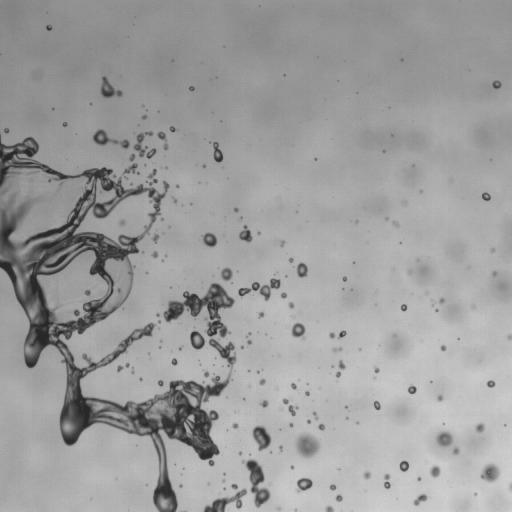droplet: (294, 431, 320, 458), (252, 425, 272, 451), (100, 76, 123, 98), (480, 462, 500, 482), (285, 322, 306, 340), (435, 430, 453, 446), (295, 477, 313, 493), (238, 224, 252, 243), (292, 262, 308, 278), (201, 232, 217, 247), (219, 267, 233, 284), (429, 464, 441, 478), (2, 135, 13, 146), (142, 136, 153, 147), (144, 158, 155, 169), (154, 241, 165, 252), (283, 244, 294, 255), (225, 285, 236, 296), (19, 321, 30, 332), (43, 343, 54, 354), (74, 357, 85, 368), (56, 364, 67, 375), (282, 387, 293, 398), (207, 395, 218, 406), (268, 396, 279, 407), (200, 400, 211, 411), (308, 426, 319, 437), (80, 427, 91, 438), (208, 428, 219, 439), (141, 434, 152, 445), (163, 436, 174, 447), (286, 441, 297, 452), (311, 451, 322, 462), (292, 452, 303, 463), (255, 455, 266, 466), (493, 457, 504, 468), (495, 460, 506, 471), (495, 474, 506, 485), (240, 478, 251, 489), (243, 492, 254, 503), (399, 460, 409, 472), (151, 229, 159, 243), (475, 422, 485, 433), (274, 238, 286, 247), (407, 384, 416, 394), (332, 346, 343, 354), (492, 80, 501, 89), (481, 192, 490, 201), (337, 330, 346, 339), (157, 379, 166, 388), (134, 155, 143, 164), (154, 183, 163, 192), (219, 279, 228, 288), (94, 319, 103, 328), (332, 336, 341, 345), (218, 337, 227, 346), (108, 342, 117, 351), (334, 351, 343, 360), (296, 382, 305, 391), (268, 439, 277, 448), (475, 464, 484, 473), (422, 470, 431, 479), (330, 500, 339, 509), (258, 399, 268, 407), (363, 470, 371, 479), (373, 400, 380, 410), (224, 505, 235, 511), (256, 505, 267, 511), (413, 505, 424, 511), (257, 310, 265, 318), (202, 369, 210, 377), (317, 423, 325, 431), (129, 153, 136, 162), (171, 357, 178, 366), (486, 380, 495, 387), (452, 446, 459, 455), (400, 199, 408, 206), (118, 219, 126, 226), (392, 220, 399, 228), (151, 250, 158, 258), (279, 292, 287, 299), (258, 378, 266, 385), (335, 494, 342, 502), (0, 267, 5, 278), (169, 126, 178, 132), (373, 364, 379, 373), (325, 505, 334, 511), (400, 304, 407, 311), (436, 394, 443, 401), (231, 422, 238, 429), (107, 77, 114, 84), (95, 79, 102, 86), (112, 83, 119, 90), (94, 88, 101, 95), (95, 91, 102, 98), (110, 94, 117, 101), (164, 129, 171, 136), (106, 131, 113, 138), (116, 134, 123, 141), (129, 138, 136, 145), (92, 142, 99, 149), (114, 143, 121, 150), (127, 145, 134, 152), (31, 153, 38, 160), (49, 162, 56, 169), (83, 163, 90, 170), (127, 171, 134, 178), (122, 182, 129, 189), (148, 227, 155, 234), (134, 241, 141, 248), (127, 252, 134, 259), (292, 258, 299, 265), (229, 264, 236, 271), (230, 273, 237, 280), (277, 285, 284, 292), (269, 287, 276, 294), (197, 291, 204, 298), (285, 294, 292, 301), (178, 295, 185, 302), (282, 297, 289, 304), (161, 304, 168, 311), (217, 307, 224, 314), (150, 316, 157, 323), (288, 318, 295, 325), (138, 321, 145, 328), (84, 326, 91, 333), (121, 331, 128, 338), (58, 333, 65, 340), (233, 341, 240, 348), (92, 355, 99, 362), (36, 357, 43, 364), (232, 361, 239, 368), (254, 373, 261, 380), (60, 377, 67, 384), (220, 387, 227, 394), (208, 394, 215, 401), (56, 402, 63, 409), (54, 408, 61, 415), (256, 419, 263, 426), (311, 419, 318, 426), (440, 425, 447, 432), (246, 426, 253, 433), (264, 426, 271, 433), (482, 426, 489, 433), (431, 430, 438, 437), (129, 432, 136, 439), (57, 437, 64, 444), (251, 441, 258, 448), (446, 443, 453, 450), (186, 445, 193, 452), (261, 447, 268, 454), (210, 454, 217, 461), (243, 454, 250, 461), (425, 463, 432, 470), (364, 464, 371, 471), (438, 464, 445, 471), (261, 467, 268, 474), (243, 468, 250, 475), (438, 470, 445, 477), (480, 478, 487, 485), (224, 480, 231, 487), (150, 481, 157, 488), (256, 482, 263, 489), (170, 483, 177, 490), (229, 488, 236, 495), (268, 488, 275, 495), (147, 489, 154, 496), (330, 489, 337, 496), (217, 492, 224, 499), (175, 495, 182, 502), (239, 495, 246, 502), (288, 301, 294, 309), (329, 484, 337, 490), (329, 332, 335, 339), (67, 197, 75, 202), (278, 445, 283, 453), (46, 24, 52, 30), (489, 247, 495, 253), (440, 345, 446, 351), (304, 390, 310, 396), (3, 128, 10, 133), (492, 270, 497, 277), (177, 345, 184, 350), (141, 114, 147, 119), (29, 176, 34, 182), (233, 207, 239, 212), (237, 216, 243, 221), (354, 219, 359, 225), (288, 257, 293, 263), (470, 304, 476, 309), (306, 418, 311, 424), (507, 421, 511, 428), (151, 507, 158, 511), (237, 507, 244, 511), (319, 507, 326, 511), (189, 86, 194, 91), (62, 122, 67, 127), (384, 216, 389, 221), (407, 269, 412, 274), (342, 276, 347, 281), (424, 290, 429, 295), (290, 314, 295, 319), (288, 422, 293, 427), (276, 506, 281, 511), (488, 84, 493, 89), (491, 87, 496, 92), (495, 87, 500, 92), (121, 89, 126, 94), (140, 109, 145, 114), (142, 118, 147, 123), (173, 123, 178, 128), (98, 124, 103, 129), (145, 126, 150, 131), (90, 129, 95, 134), (135, 129, 140, 134), (24, 132, 29, 137), (29, 132, 34, 137), (152, 132, 157, 137), (88, 135, 93, 140), (17, 137, 22, 142), (34, 137, 39, 142), (105, 141, 110, 146), (140, 142, 145, 147), (144, 147, 149, 152), (209, 147, 214, 152), (134, 150, 139, 155), (221, 151, 226, 156), (150, 155, 155, 160), (209, 156, 214, 161), (41, 159, 46, 164), (211, 159, 216, 164), (127, 160, 132, 165), (218, 160, 223, 165), (96, 164, 101, 169), (105, 164, 110, 169), (134, 166, 139, 171), (78, 168, 83, 173), (147, 168, 152, 173), (61, 169, 66, 174), (153, 173, 158, 178), (112, 177, 117, 182), (165, 178, 170, 183), (151, 182, 156, 187), (131, 184, 136, 189), (166, 187, 171, 192), (489, 192, 494, 197), (159, 198, 164, 203), (176, 200, 181, 205), (234, 202, 239, 207), (235, 211, 240, 216), (155, 214, 160, 219), (388, 215, 393, 220), (241, 219, 246, 224), (386, 219, 391, 224), (397, 219, 402, 224), (151, 222, 156, 227), (246, 225, 251, 230), (390, 225, 395, 230), (208, 228, 213, 233), (201, 229, 206, 234), (249, 231, 254, 236), (214, 233, 219, 238), (279, 235, 284, 240), (198, 236, 203, 241), (156, 237, 161, 242), (241, 239, 246, 244), (215, 240, 220, 245), (204, 244, 209, 249), (275, 245, 280, 250), (148, 248, 153, 253), (287, 252, 292, 257), (157, 253, 162, 258), (284, 254, 289, 259), (304, 261, 309, 266), (219, 264, 224, 269), (491, 265, 496, 270), (131, 267, 136, 272), (306, 269, 311, 274), (487, 269, 492, 274), (292, 271, 297, 276), (273, 274, 278, 279), (494, 274, 499, 279), (301, 275, 306, 280), (132, 276, 137, 281), (265, 280, 270, 285), (279, 280, 284, 285), (258, 281, 263, 286), (341, 281, 346, 286), (131, 283, 136, 288), (246, 283, 251, 288), (344, 286, 349, 291), (129, 289, 134, 294), (249, 289, 254, 294), (285, 290, 290, 295), (10, 291, 15, 296), (243, 293, 248, 298), (441, 293, 446, 298), (259, 294, 264, 299), (434, 296, 439, 301), (292, 300, 297, 305), (122, 301, 127, 306), (231, 302, 236, 307), (16, 303, 21, 308), (293, 303, 298, 308), (434, 303, 439, 308), (284, 304, 289, 309), (257, 307, 262, 312), (287, 307, 292, 312), (105, 315, 110, 320), (297, 318, 302, 323), (303, 324, 308, 329), (226, 326, 231, 331), (287, 328, 292, 333), (72, 329, 77, 334), (303, 329, 308, 334), (334, 331, 339, 336), (324, 333, 329, 338), (247, 334, 252, 339), (502, 335, 507, 340), (20, 336, 25, 341), (242, 341, 247, 346), (248, 343, 253, 348), (445, 345, 450, 350), (440, 350, 445, 355), (58, 354, 63, 359), (20, 360, 25, 365), (342, 360, 347, 365), (61, 362, 66, 367), (335, 366, 340, 371), (250, 368, 255, 373), (339, 368, 344, 373), (230, 373, 235, 378), (484, 376, 489, 381), (294, 380, 299, 385), (263, 381, 268, 386), (403, 384, 408, 389), (304, 385, 309, 390), (415, 387, 420, 392), (441, 392, 446, 397), (432, 394, 437, 399), (438, 400, 443, 405), (266, 403, 271, 408), (283, 404, 288, 409), (214, 407, 219, 412), (286, 411, 291, 416), (309, 415, 314, 420), (233, 418, 238, 423), (317, 418, 322, 423), (473, 420, 478, 425), (237, 422, 242, 427), (108, 425, 113, 430), (470, 425, 475, 430), (323, 426, 328, 431), (113, 427, 118, 432), (230, 427, 235, 432), (121, 430, 126, 435), (151, 448, 156, 453), (458, 448, 463, 453), (165, 451, 170, 456), (454, 453, 459, 458), (403, 456, 408, 461), (203, 458, 208, 463), (407, 460, 412, 465), (399, 470, 404, 475), (358, 471, 363, 476), (303, 473, 308, 478), (369, 473, 374, 478), (296, 474, 301, 479), (366, 477, 371, 482), (329, 479, 334, 484), (219, 482, 224, 487), (379, 483, 384, 488), (503, 483, 508, 488), (236, 486, 241, 491), (305, 487, 310, 492), (300, 489, 305, 494), (417, 490, 422, 495), (412, 494, 417, 499), (425, 497, 430, 502), (408, 499, 413, 504), (418, 500, 423, 505), (260, 502, 265, 507), (199, 506, 204, 511), (507, 334, 511, 340), (0, 126, 3, 133), (175, 184, 179, 189), (159, 217, 164, 221), (257, 230, 261, 235), (273, 271, 278, 275), (392, 333, 397, 337), (139, 377, 143, 382), (417, 476, 421, 481), (221, 478, 225, 483), (472, 492, 477, 496), (382, 149, 386, 153), (202, 164, 206, 168), (419, 189, 423, 193), (240, 345, 244, 349), (247, 369, 251, 373), (372, 375, 376, 379), (238, 451, 242, 455), (290, 465, 294, 469), (178, 483, 182, 487), (508, 329, 511, 334), (314, 157, 317, 161), (129, 182, 133, 185), (398, 241, 402, 244), (415, 258, 419, 261), (358, 347, 361, 351), (429, 380, 433, 383), (248, 384, 251, 388), (242, 397, 245, 401), (345, 416, 349, 419), (355, 421, 359, 424), (442, 422, 446, 425), (269, 450, 272, 454), (222, 472, 226, 475), (207, 481, 210, 485), (400, 58, 403, 61), (89, 102, 92, 105), (141, 104, 144, 107), (51, 107, 54, 110), (412, 164, 415, 167), (189, 202, 192, 205), (168, 225, 171, 228), (145, 271, 148, 274), (169, 286, 172, 289), (350, 288, 353, 291), (374, 303, 377, 306), (435, 308, 438, 311), (457, 337, 460, 340), (256, 370, 259, 373), (297, 378, 300, 381), (306, 382, 309, 385), (318, 386, 321, 389), (145, 483, 148, 486), (223, 487, 226, 490), (294, 508, 297, 511), (46, 21, 49, 24), (43, 27, 46, 30), (48, 29, 51, 32), (280, 71, 283, 74), (285, 72, 288, 75), (284, 75, 287, 78), (498, 78, 501, 81), (191, 83, 194, 86), (186, 84, 189, 87), (187, 89, 190, 92), (192, 89, 195, 92), (88, 99, 91, 102), (91, 101, 94, 104), (50, 104, 53, 107), (88, 104, 91, 107), (144, 105, 147, 108), (48, 107, 51, 110), (54, 107, 57, 110), (159, 109, 162, 112), (63, 118, 66, 121), (59, 122, 62, 125), (66, 122, 69, 125), (4, 124, 7, 127), (64, 125, 67, 128), (8, 128, 11, 131), (173, 130, 176, 133), (213, 138, 216, 141), (379, 148, 382, 151), (163, 149, 166, 152), (384, 151, 387, 154), (314, 154, 317, 157), (311, 158, 314, 161), (316, 158, 319, 161), (199, 162, 202, 165), (161, 164, 164, 167), (167, 165, 170, 168), (199, 165, 202, 168), (202, 167, 205, 170), (121, 168, 124, 171), (124, 172, 127, 175), (178, 183, 181, 186), (486, 190, 489, 193), (478, 193, 481, 196), (482, 199, 485, 202), (172, 202, 175, 205), (191, 203, 194, 206), (187, 204, 190, 207), (230, 208, 233, 211), (352, 218, 355, 221), (260, 230, 263, 233), (399, 238, 402, 241), (283, 242, 286, 245), (399, 243, 402, 246), (494, 247, 497, 250), (492, 251, 495, 254), (166, 252, 169, 255), (286, 260, 289, 263), (349, 260, 352, 263), (160, 261, 163, 264), (352, 263, 355, 266), (147, 269, 150, 272), (144, 273, 147, 276), (346, 276, 349, 279), (339, 277, 342, 280), (345, 279, 348, 282), (167, 283, 170, 286), (340, 289, 343, 292), (127, 294, 130, 297), (400, 301, 403, 304), (403, 301, 406, 304), (397, 305, 400, 308), (406, 305, 409, 308), (404, 309, 407, 312), (401, 310, 404, 313), (153, 311, 156, 314), (435, 311, 438, 314), (255, 313, 258, 316), (259, 316, 262, 319), (247, 328, 250, 331), (329, 329, 332, 332), (345, 330, 348, 333), (244, 331, 247, 334), (266, 334, 269, 337), (456, 334, 459, 337), (340, 336, 343, 339), (459, 337, 462, 340), (455, 339, 458, 342), (251, 340, 254, 343), (358, 344, 361, 347), (437, 346, 440, 349), (247, 366, 250, 369), (244, 368, 247, 371), (371, 368, 374, 371), (231, 370, 234, 373), (259, 370, 262, 373), (246, 371, 249, 374), (373, 372, 376, 375), (339, 374, 342, 377), (333, 375, 336, 378), (428, 377, 431, 380), (307, 379, 310, 382), (494, 381, 497, 384), (428, 382, 431, 385), (412, 383, 415, 386), (288, 385, 291, 388), (487, 386, 490, 389), (308, 390, 311, 393), (407, 392, 410, 395), (411, 393, 414, 396), (304, 395, 307, 398), (244, 396, 247, 399), (239, 397, 242, 400), (370, 401, 373, 404), (379, 402, 382, 405), (341, 404, 344, 407), (259, 405, 262, 408), (371, 405, 374, 408), (263, 406, 266, 409), (347, 406, 350, 409), (344, 408, 347, 411), (375, 409, 378, 412), (315, 410, 318, 413), (342, 415, 345, 418), (348, 415, 351, 418), (354, 418, 357, 421), (344, 419, 347, 422), (442, 419, 445, 422), (303, 420, 306, 423), (439, 420, 442, 423), (503, 420, 506, 423), (292, 422, 295, 425), (323, 423, 326, 426), (354, 423, 357, 426), (500, 423, 503, 426), (506, 423, 509, 426), (226, 430, 229, 433), (281, 447, 284, 450), (276, 448, 279, 451), (235, 450, 238, 453), (398, 459, 401, 462), (337, 464, 340, 467), (396, 464, 399, 467), (179, 465, 182, 468), (210, 465, 213, 468), (287, 465, 290, 468), (293, 465, 296, 468), (407, 467, 410, 470), (181, 469, 184, 472), (335, 469, 338, 472), (339, 469, 342, 472), (221, 475, 224, 478), (414, 477, 417, 480), (420, 477, 423, 480), (218, 479, 221, 482), (232, 480, 235, 483), (327, 483, 330, 486), (182, 484, 185, 487), (335, 484, 338, 487), (389, 484, 392, 487), (383, 487, 386, 490), (474, 489, 477, 492), (470, 491, 473, 494), (340, 493, 343, 496), (476, 493, 479, 496), (341, 497, 344, 500), (240, 505, 243, 508), (144, 163, 146, 167), (171, 59, 174, 61), (391, 134, 393, 137), (208, 141, 211, 143), (490, 158, 492, 161), (296, 210, 298, 213), (352, 261, 355, 263), (236, 270, 238, 273), (212, 274, 214, 277), (285, 274, 287, 277), (341, 288, 344, 290), (122, 307, 124, 310), (265, 332, 267, 335), (214, 356, 216, 359), (212, 364, 215, 366), (331, 365, 334, 367), (261, 368, 263, 371), (225, 429, 228, 431), (278, 428, 281, 430), (182, 467, 185, 469), (337, 468, 340, 470), (509, 339, 511, 342), (275, 509, 278, 511), (279, 509, 282, 511), (291, 509, 294, 511), (296, 509, 299, 511), (283, 74, 285, 76), (145, 109, 147, 111), (157, 110, 159, 112), (220, 120, 222, 122), (198, 181, 200, 183), (378, 344, 380, 346), (170, 350, 172, 352), (197, 359, 199, 361), (199, 363, 201, 365), (329, 372, 331, 374), (504, 424, 506, 426), (249, 453, 251, 455), (180, 473, 182, 475), (0, 53, 1, 55), (356, 92, 358, 93), (227, 177, 228, 179), (270, 337, 272, 338), (222, 365, 223, 367), (234, 411, 235, 413), (136, 444, 137, 446), (340, 510, 342, 511), (317, 320, 318, 321)
ligament: (237, 278, 281, 301), (92, 128, 129, 149), (334, 359, 347, 378), (156, 131, 168, 150), (213, 141, 223, 162), (413, 493, 430, 505), (430, 297, 445, 307), (116, 362, 129, 372), (383, 473, 391, 489), (245, 331, 252, 346), (290, 382, 299, 391), (312, 411, 318, 421), (171, 196, 177, 205), (161, 253, 167, 262), (158, 339, 163, 349), (507, 480, 511, 492), (344, 405, 349, 411), (147, 352, 151, 359), (131, 366, 134, 374), (160, 166, 167, 169), (365, 489, 366, 492)
